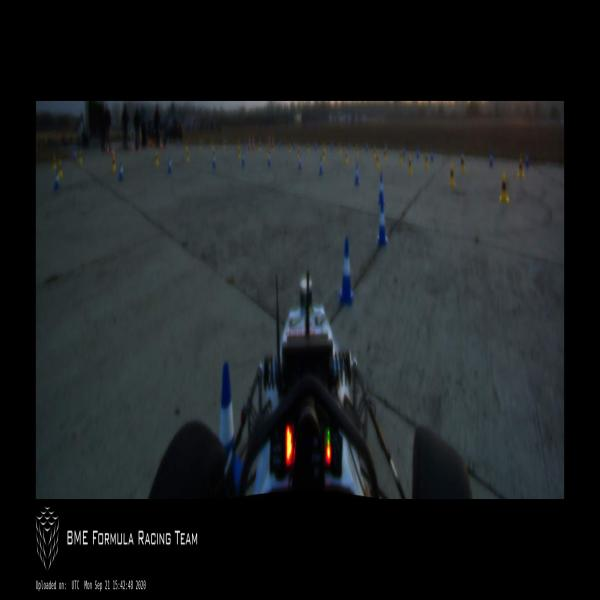blue_cone: (219, 360, 244, 485), (339, 236, 353, 304), (378, 200, 387, 244), (378, 174, 384, 204), (119, 160, 124, 182), (167, 157, 172, 175), (489, 151, 494, 169), (354, 164, 358, 184), (319, 155, 323, 175), (212, 152, 216, 170), (56, 172, 60, 190), (298, 153, 301, 172), (242, 150, 245, 167), (268, 152, 271, 167), (526, 154, 529, 168), (416, 145, 419, 159), (430, 150, 433, 163), (403, 145, 406, 156), (330, 140, 333, 151), (366, 142, 368, 153)
yellow_cone: (501, 174, 510, 204), (449, 164, 455, 188), (519, 160, 524, 178), (408, 154, 412, 174), (59, 161, 63, 179), (376, 151, 380, 169), (424, 151, 428, 169), (78, 146, 82, 164), (399, 148, 403, 164), (112, 157, 116, 172), (155, 152, 159, 167), (186, 149, 190, 164), (53, 154, 56, 172), (345, 148, 348, 166), (462, 154, 465, 172), (383, 148, 387, 161), (238, 147, 242, 159), (266, 144, 269, 159), (355, 143, 358, 158), (373, 144, 376, 159), (338, 140, 341, 154), (297, 147, 300, 159), (323, 150, 326, 162), (288, 142, 291, 154)
